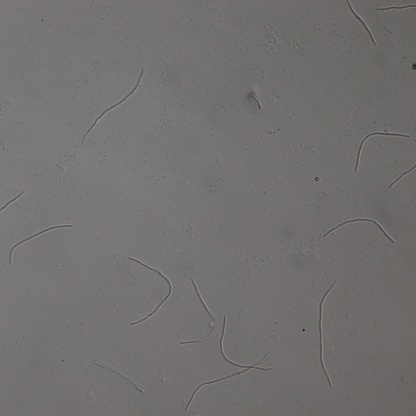Sensitive: (187, 315, 274, 408), (82, 68, 144, 145), (125, 256, 172, 326), (8, 223, 73, 265), (180, 277, 217, 348), (354, 130, 410, 172), (315, 281, 336, 388), (322, 218, 398, 242), (93, 363, 144, 392), (346, 1, 376, 44), (376, 2, 416, 15)
